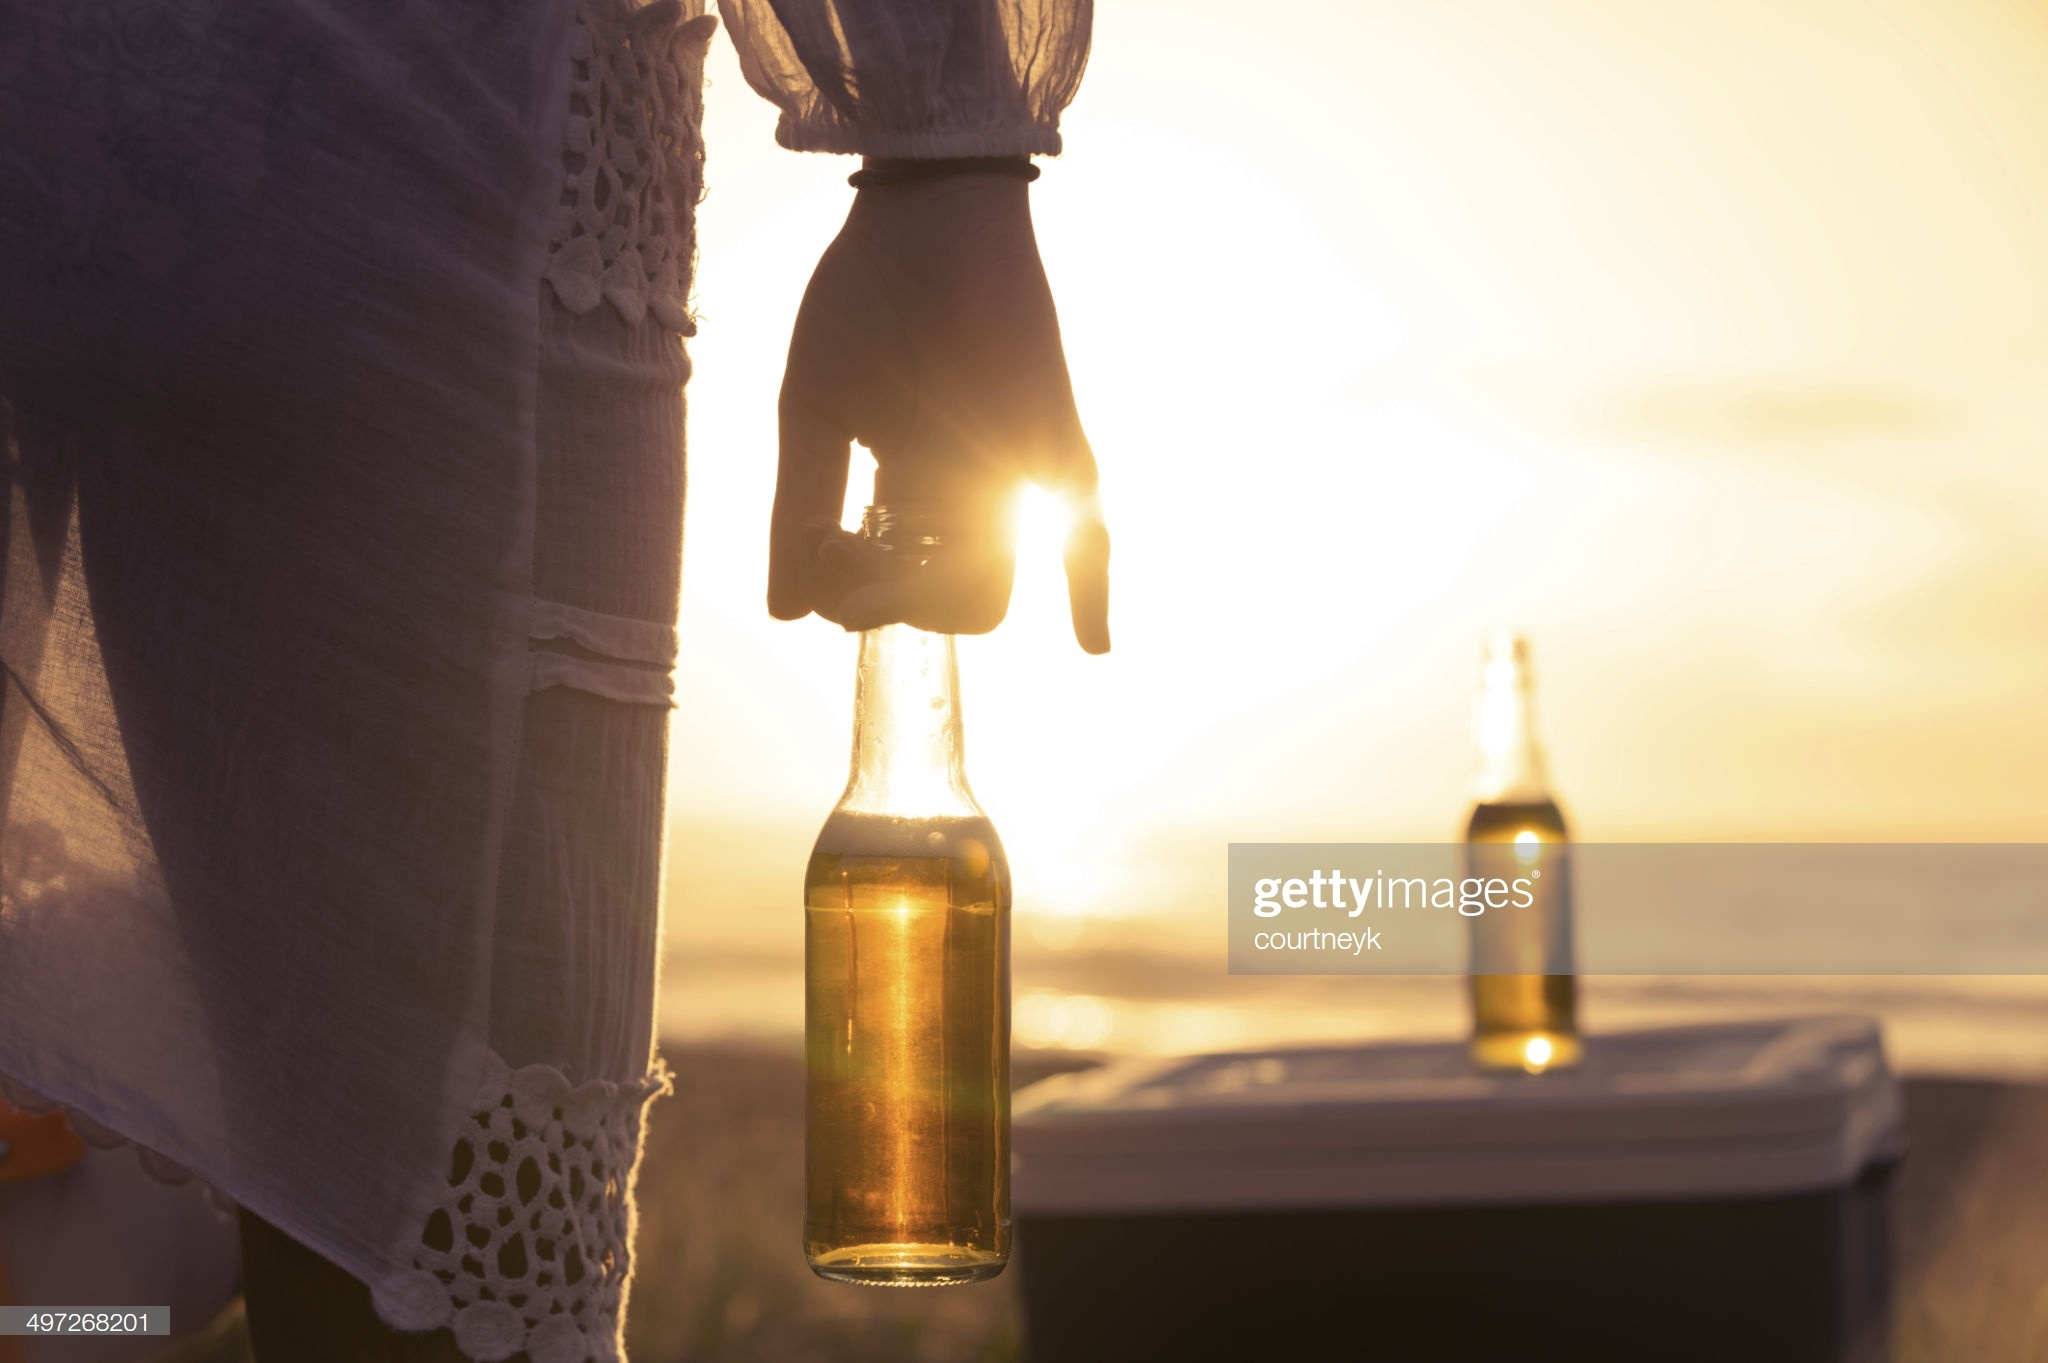beerBottle: (801, 526, 1019, 1298)
